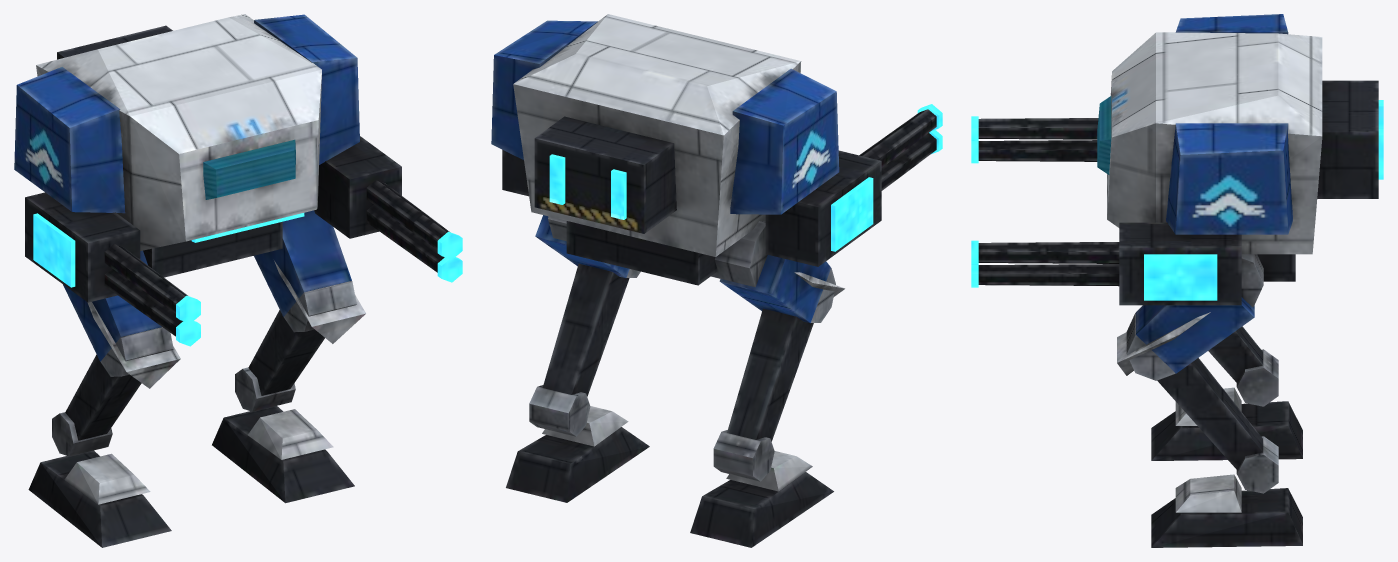
File: u_titan1_w.glb
3 renders of one model, left to right at view 1: azimuth 30°, elevation 25°; view 2: azimuth 150°, elevation 25°; view 3: azimuth 270°, elevation 25°, orthographic. The views are drawn at different scales.
Parts seen in each view (by area): view 1: u_titan1_w; view 2: u_titan1_w; view 3: u_titan1_w.
Boxes of the visible parts, box(x1,y1,x2,y2) form: u_titan1_w: box(14, 14, 462, 547); u_titan1_w: box(491, 14, 942, 547); u_titan1_w: box(971, 14, 1383, 547).
Bounding box in the file's own units: 1.48 × 1.91 × 1.68.
1 material, 1 textured.
